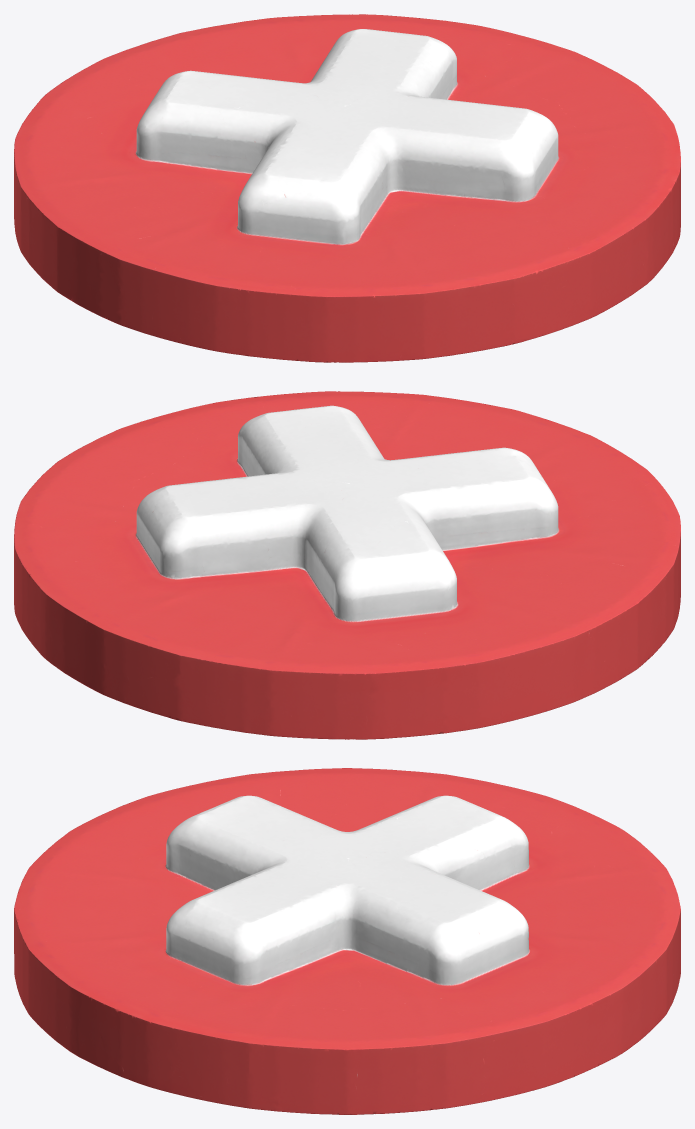
Rendered from sin datos.glb.
The picture shows the model from 3 angles, top to bottom: view 1: azimuth 30°, elevation 25°; view 2: azimuth 150°, elevation 25°; view 3: azimuth 270°, elevation 25°; orthographic projection.
Parts seen in each view (by area): view 1: Mesh_0; view 2: Mesh_0; view 3: Mesh_0.
Boxes of the visible parts, x1,y1,x2,y2 form: Mesh_0: (14,14,680,362); Mesh_0: (14,391,680,739); Mesh_0: (14,768,680,1114).
Size of the model in its own units: 3.77 by 1 by 3.77.
1 material, 1 textured.
